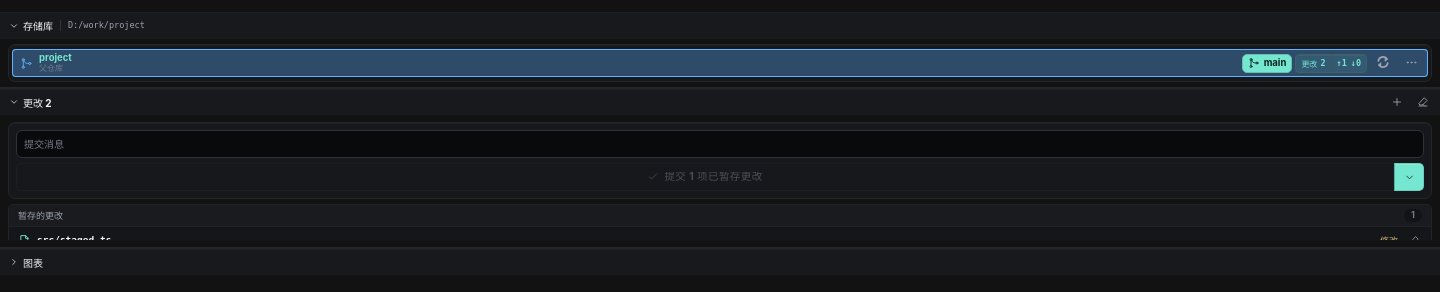
Scenario: GitPane basics and lifecycle › turns a successful commit into push without automatically pushing
This screenshot has width=1440, height=292.
Expected: the text "project" is shown, [39, 52, 72, 63]
Type "feat: aggregate action" into the text box labelled "提交消息" at (720, 144), box [16, 130, 1424, 158]
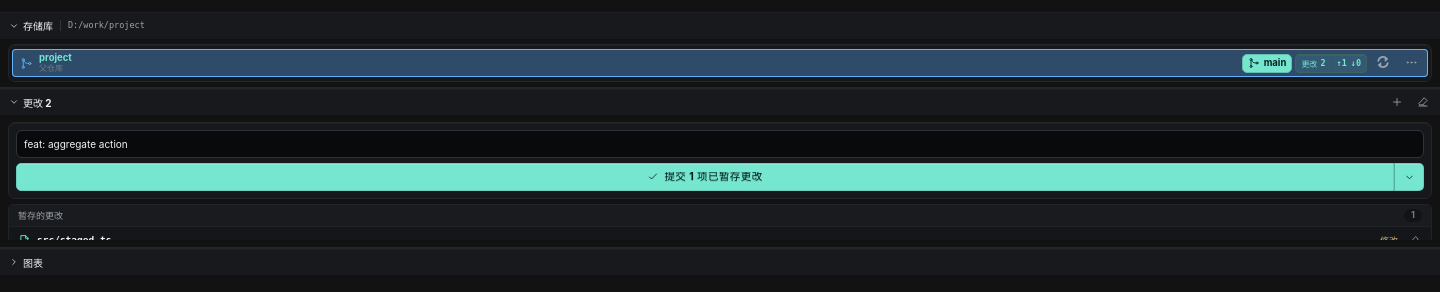
Click the button "提交 1 项已暂存更改" at (705, 177), box [16, 163, 1394, 191]
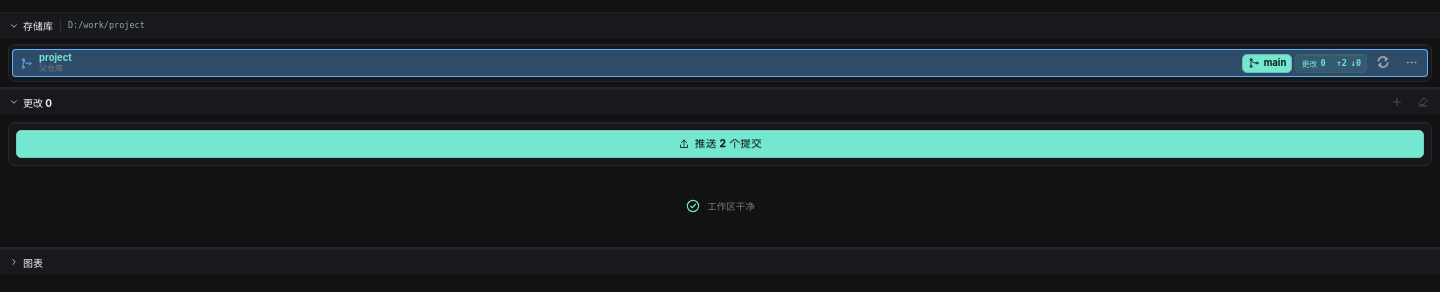
Expected: the button "推送 2 个提交" is enabled, [16, 130, 1424, 158]
Expected: the text box labelled "提交消息" is gone
